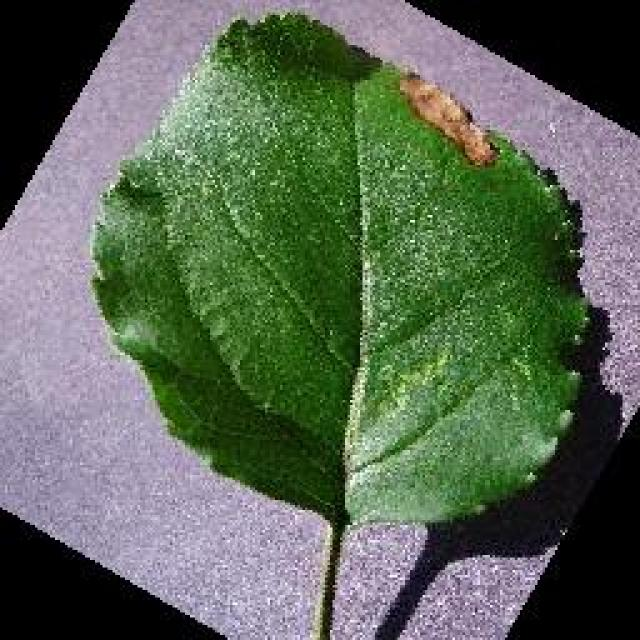Apple___Black_rot: (86, 7, 594, 532)
